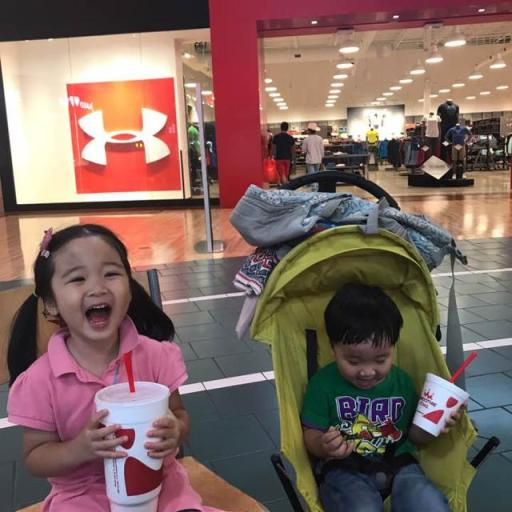Under Armour: (76, 105, 176, 168)
